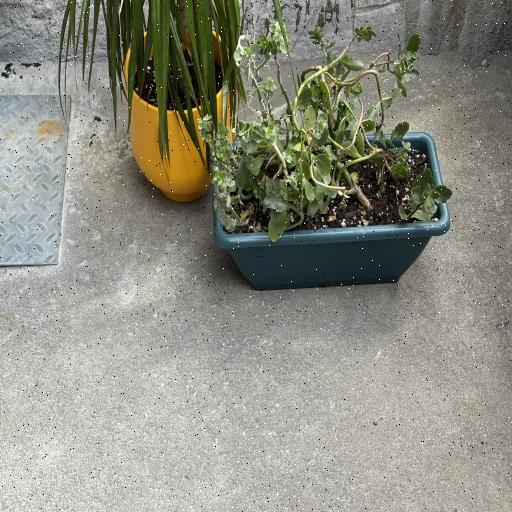Plant Pot: (125, 30, 235, 200)
